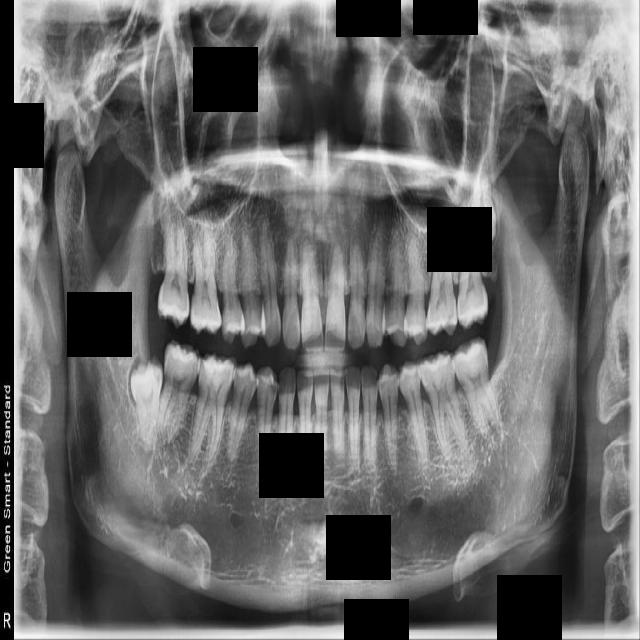73: (620, 610, 630, 616)
BioHorizons Implant: (456, 230, 493, 330)
BioLife Implant: (468, 149, 496, 256)
Blue Sky Bio Implant: (447, 336, 503, 442)
Caries: (157, 206, 195, 328)
Implant: (156, 339, 203, 443)
Keystone Dental Implant: (127, 354, 164, 452)
